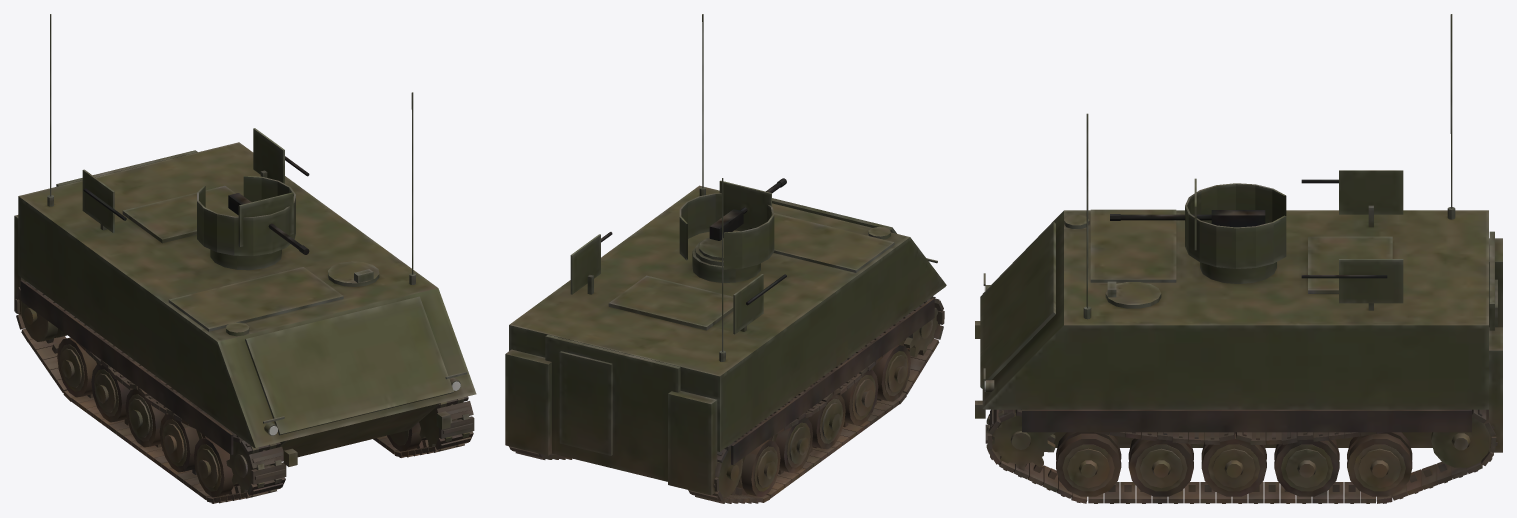
3 views of the same model, side by side, from view 1: azimuth 30°, elevation 25°; view 2: azimuth 150°, elevation 25°; view 3: azimuth 270°, elevation 25° (orthographic). The views are drawn at different scales.
Visible parts, largest first — view 1: than, xich_phai, vom_chi_huy, nap_khoang, xich_trai, banh_phai_1, sung_may, banh_phai_2, banh_phai_5, banh_phai_3, banh_phai_4, sung_m60_phai (+6 smaller); view 2: than, cua_sau, vom_chi_huy, xich_phai, nap_khoang, sung_may, banh_phai_5, banh_phai_1, banh_phai_4, sung_m60_trai, sung_m60_phai, banh_phai_2 (+3 smaller); view 3: than, xich_trai, vom_chi_huy, banh_trai_1, banh_trai_5, banh_trai_2, banh_trai_4, sung_m60_phai, banh_trai_3, sung_m60_trai, nap_khoang, banh_chu_dong_trai (+6 smaller).
Boxes of the visible parts, left/top/right/bottom form: than: left=14, top=142, right=476, bottom=466; xich_phai: left=15, top=281, right=286, bottom=503; vom_chi_huy: left=197, top=175, right=295, bottom=270; nap_khoang: left=122, top=185, right=238, bottom=243; xich_trai: left=373, top=396, right=474, bottom=457; banh_phai_1: left=193, top=437, right=239, bottom=497; sung_may: left=228, top=192, right=309, bottom=254; banh_phai_2: left=159, top=414, right=206, bottom=472; banh_phai_5: left=57, top=337, right=98, bottom=397; banh_phai_3: left=125, top=389, right=165, bottom=447; banh_phai_4: left=91, top=364, right=130, bottom=422; sung_m60_phai: left=82, top=169, right=126, bottom=232; than: left=505, top=185, right=946, bottom=495; cua_sau: left=545, top=335, right=680, bottom=481; vom_chi_huy: left=679, top=193, right=774, bottom=282; xich_phai: left=688, top=296, right=944, bottom=503; nap_khoang: left=608, top=275, right=733, bottom=330; sung_may: left=709, top=178, right=786, bottom=240; banh_phai_5: left=736, top=440, right=780, bottom=496; banh_phai_1: left=871, top=344, right=910, bottom=401; banh_phai_4: left=768, top=418, right=812, bottom=473; sung_m60_trai: left=570, top=232, right=612, bottom=294; sung_m60_phai: left=733, top=274, right=786, bottom=334; banh_phai_2: left=841, top=369, right=878, bottom=425; than: left=975, top=209, right=1502, bottom=452; xich_trai: left=985, top=409, right=1497, bottom=503; vom_chi_huy: left=1185, top=183, right=1286, bottom=283; banh_trai_1: left=1056, top=432, right=1121, bottom=496; banh_trai_5: left=1347, top=432, right=1412, bottom=496; banh_trai_2: left=1128, top=432, right=1193, bottom=496; banh_trai_4: left=1274, top=437, right=1339, bottom=496; sung_m60_phai: left=1301, top=170, right=1403, bottom=227; banh_trai_3: left=1201, top=432, right=1266, bottom=496; sung_m60_trai: left=1301, top=259, right=1403, bottom=310; nap_khoang: left=1308, top=236, right=1392, bottom=293; banh_chu_dong_trai: left=986, top=409, right=1055, bottom=470.
Bounding box in the file's own units: 2.67 × 3.95 × 4.93.
1 material, 1 textured.
